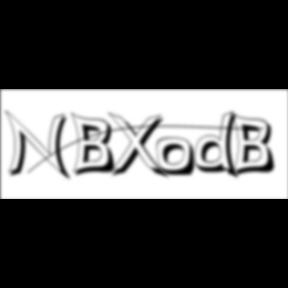B: (71, 111, 121, 179), (231, 111, 281, 179)
N: (5, 109, 75, 183)
X: (108, 112, 172, 182)
d: (194, 110, 244, 182)
o: (156, 137, 198, 179)
